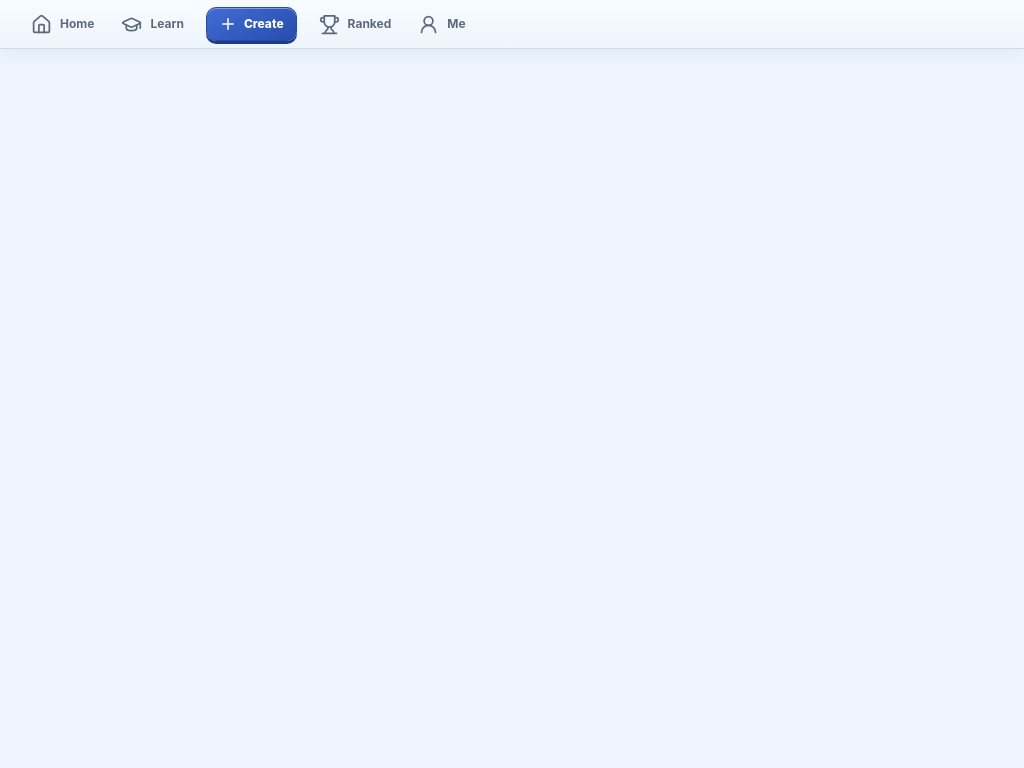
Test case: the (+) Create action › closes when a choice is made, and the choice is a navigation
Click the link "Create": (251, 24) [206,7,297,41]
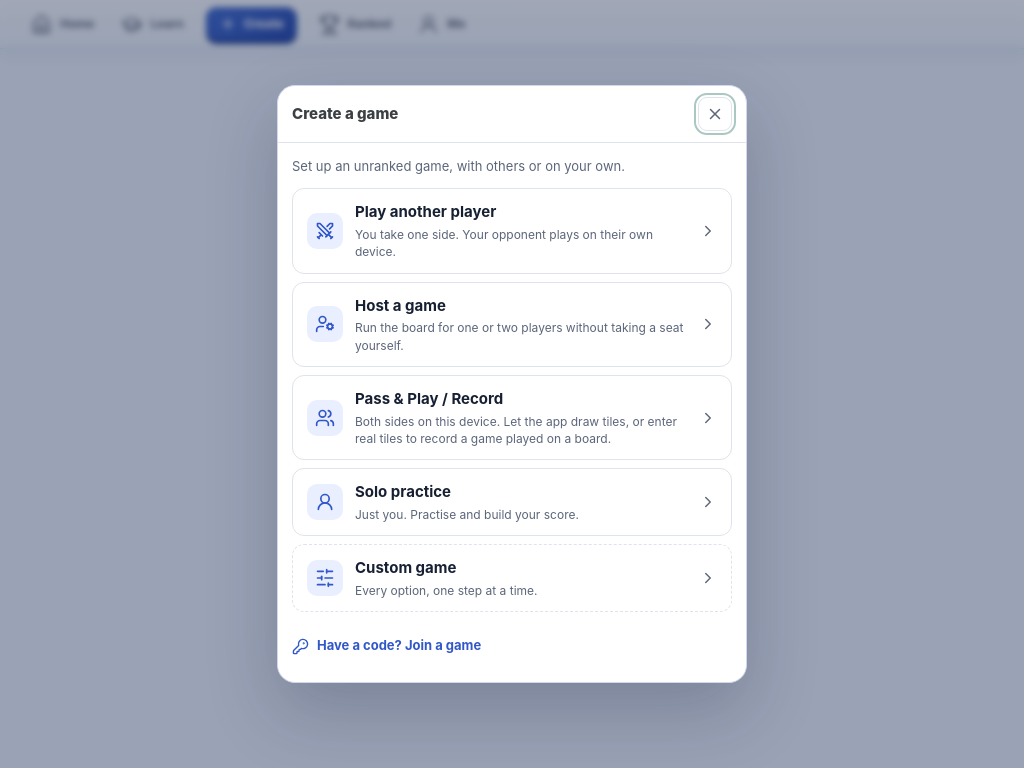
Click the link "Solo practice Just you. Practise and build your score.": (325, 502) [292,468,732,536]
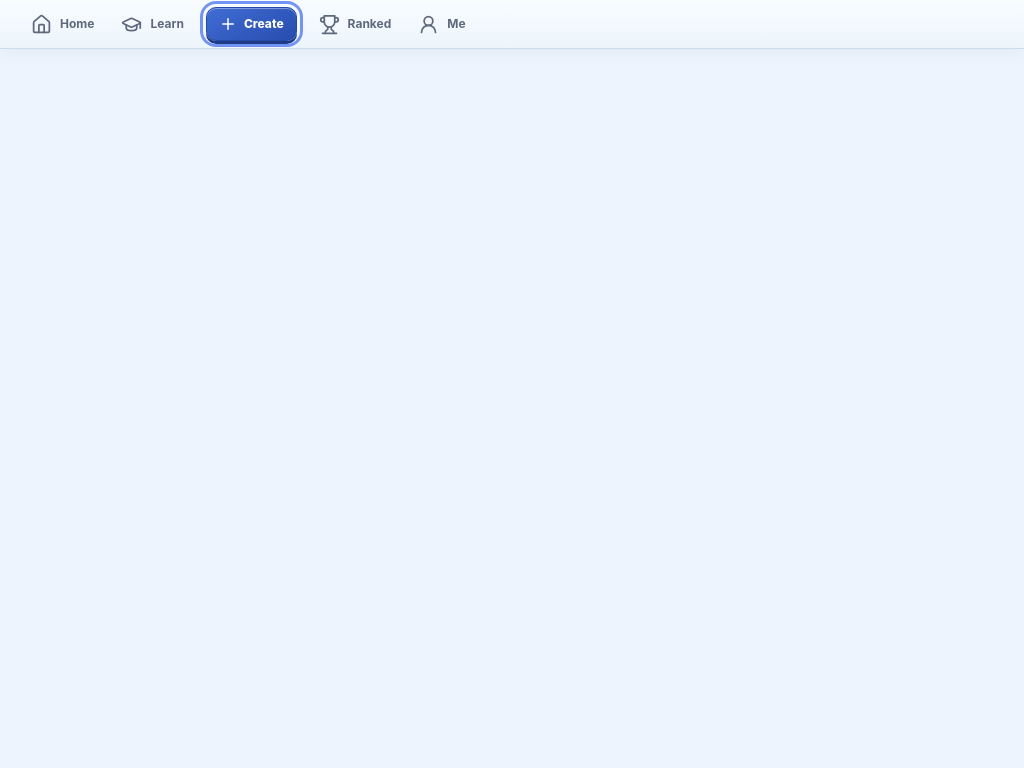
Check: the dialog is gone
